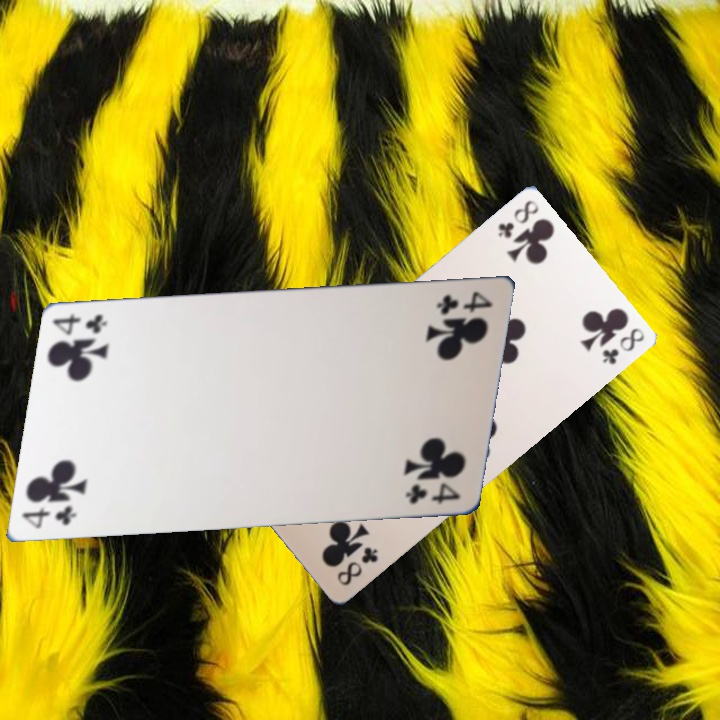4c: (431, 287, 502, 315), (400, 479, 471, 507), (49, 310, 119, 338), (18, 502, 88, 530)
8c: (484, 195, 543, 249), (327, 540, 385, 594), (588, 322, 646, 376)
